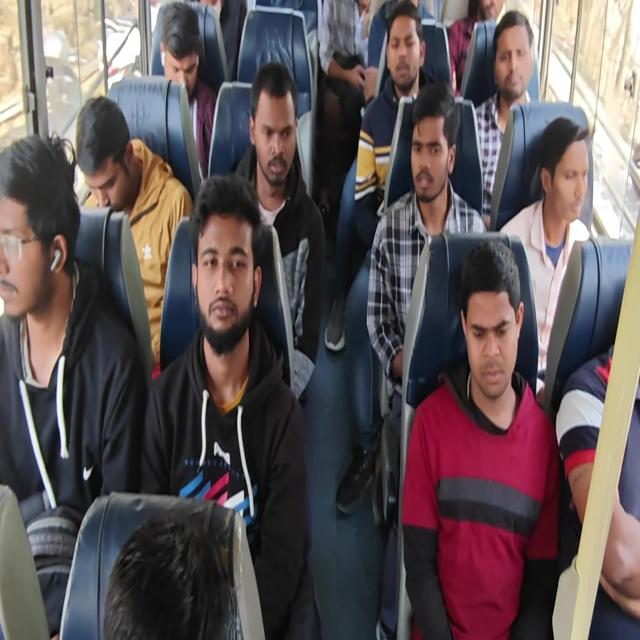person: (1, 1, 638, 638), (138, 173, 322, 638), (0, 130, 147, 638), (401, 237, 561, 638), (366, 81, 487, 442), (74, 95, 194, 377), (229, 61, 326, 403), (499, 115, 591, 406), (555, 343, 639, 620), (353, 1, 440, 249), (102, 516, 232, 639), (473, 9, 534, 227), (315, 0, 376, 214), (159, 1, 217, 181), (447, 0, 504, 95), (198, 0, 247, 82)
